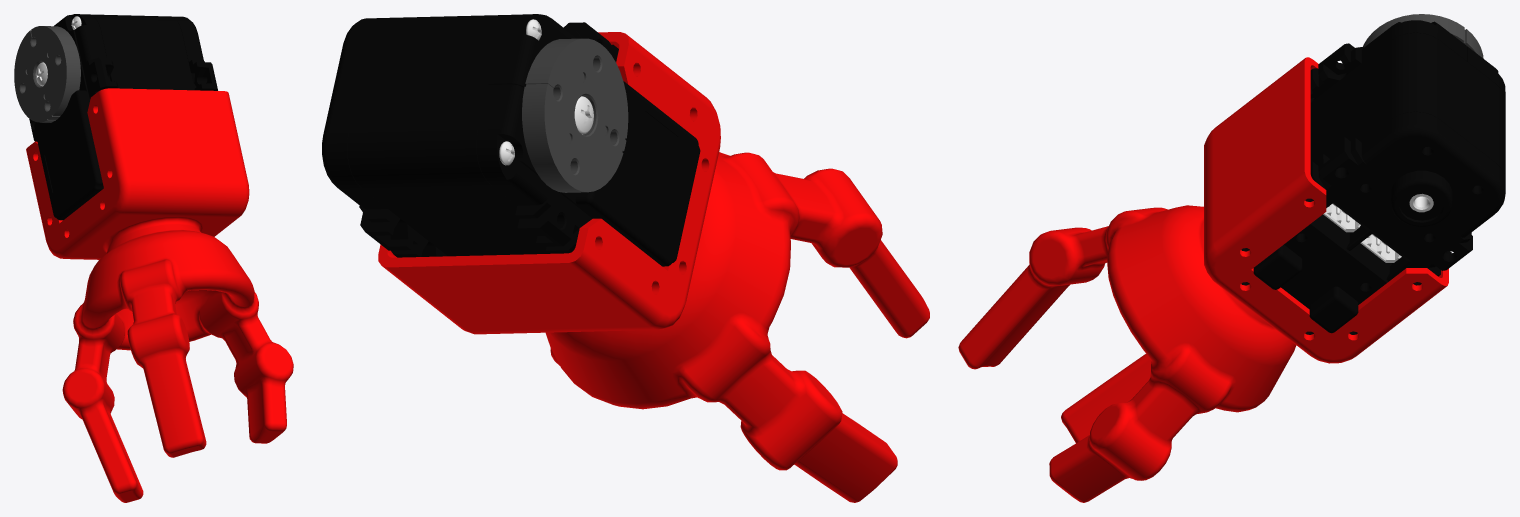
Rendered from hand-right.obj.
The picture shows the model from 3 angles, left to right: view 1: azimuth 30°, elevation 25°; view 2: azimuth 150°, elevation 25°; view 3: azimuth 270°, elevation 25°; orthographic projection. The views are drawn at different scales.
Visible parts, largest first — view 1: Solid1, ASSY_DUMMY___, DC04_B01_HORN2_DUMMY; view 2: Solid1, ASSY_DUMMY___, DC04_B01_HORN2_DUMMY; view 3: Solid1, ASSY_DUMMY___, DC04_B01_HORN2_DUMMY, 099990987____.
Part boxes in pixels (box(x1,y1,x2,y2)): Solid1: box(26, 88, 293, 502); ASSY_DUMMY___: box(29, 14, 217, 220); DC04_B01_HORN2_DUMMY: box(14, 26, 80, 122); Solid1: box(378, 32, 929, 502); ASSY_DUMMY___: box(322, 14, 700, 266); DC04_B01_HORN2_DUMMY: box(522, 38, 628, 192); Solid1: box(958, 57, 1448, 502); ASSY_DUMMY___: box(1241, 20, 1505, 334); DC04_B01_HORN2_DUMMY: box(1363, 14, 1483, 58); 099990987____: box(1323, 203, 1401, 262).
Bounding box in the file's own units: 2.26 × 3.72 × 3.81.
